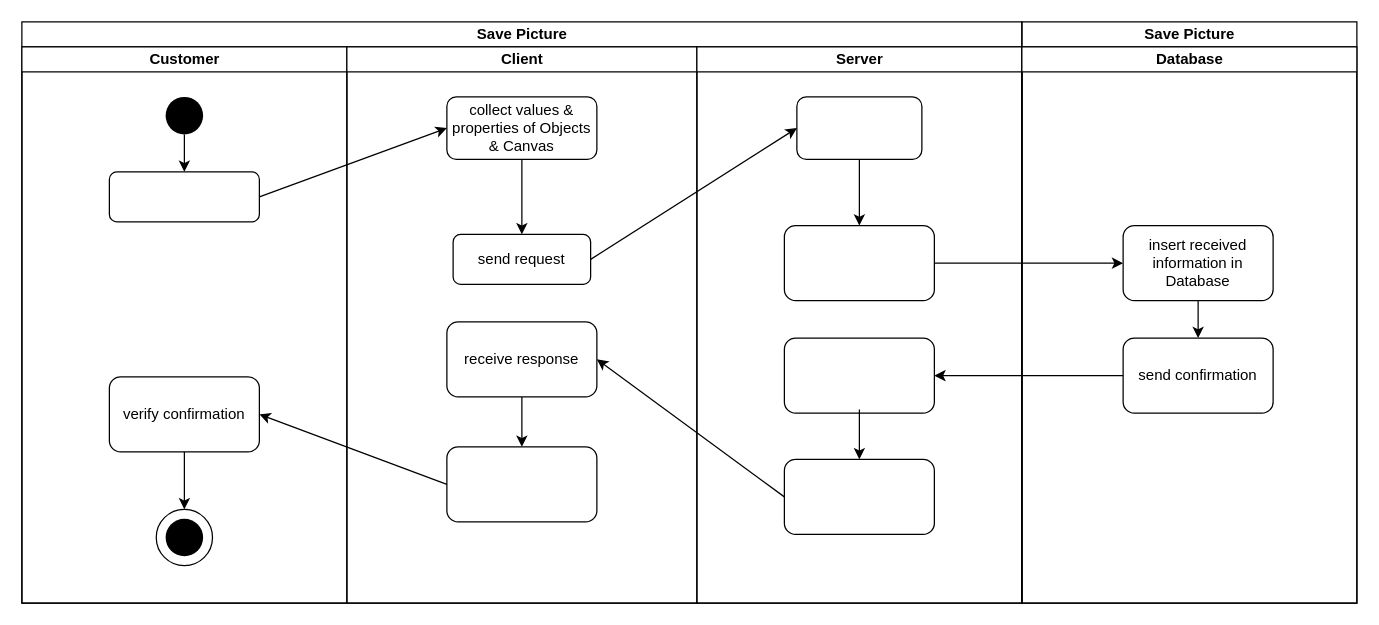
This 1379x625 diagram has some shape labels left out. Each missing label, with the centre of its shape:
"create response for Client" goes at [858,375].
"display response" goes at [521,484].
"receive request" goes at [859,127].
"request Database to insert the processed information" goes at [858,262].
"save current Picture" goes at [183,196].
"send response" goes at [858,496].
